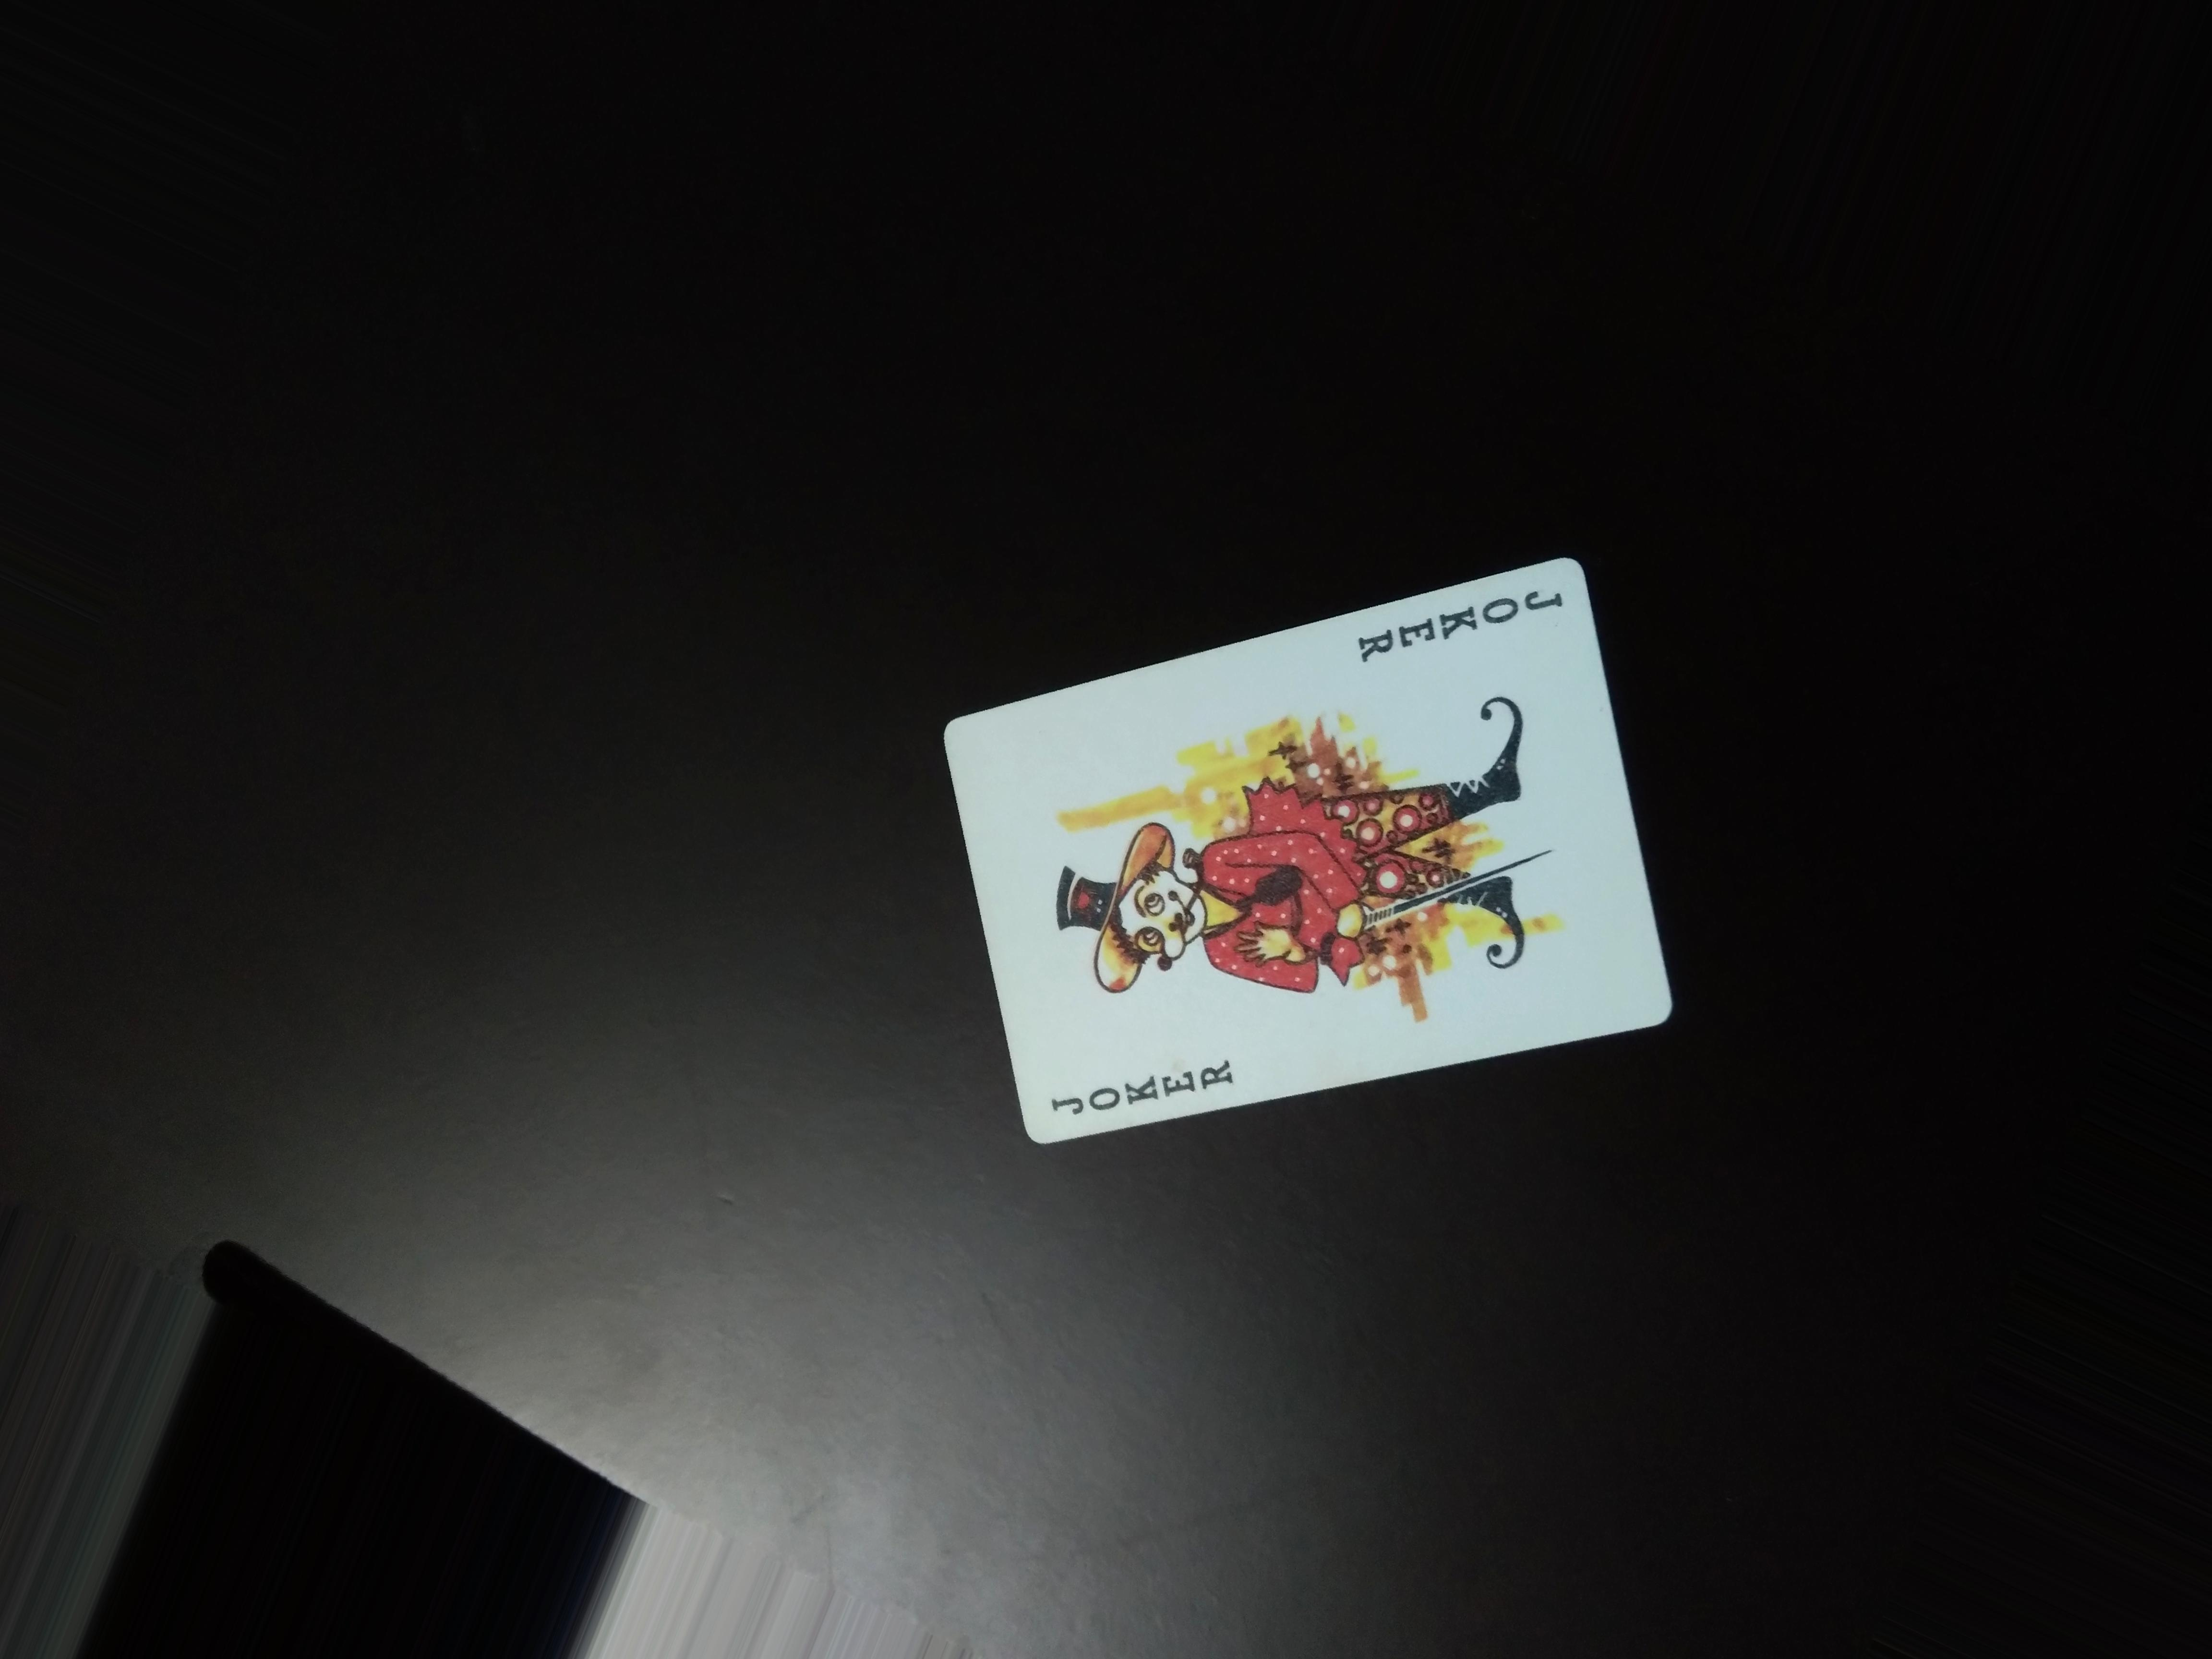JOKER: (1346, 572, 1571, 674)
